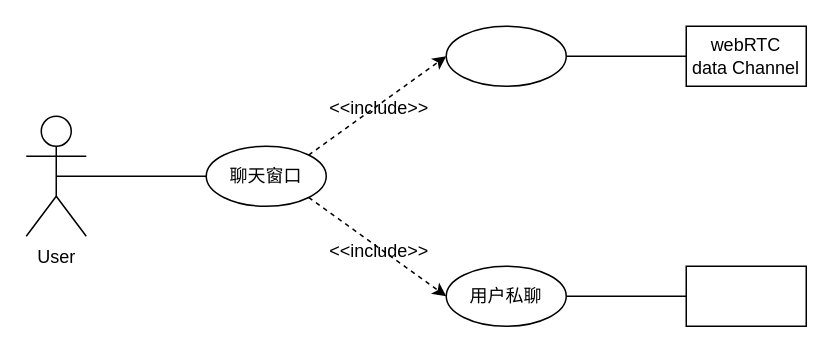
Image size: 833x353. Some labels were removed from this diagram. The shapes that lost their labels are listed below. From the top down, each one's centre as x and y in pixels, then its label:
(x=505, y=55): 公共聊天室
(x=745, y=295): Socket EventListener
